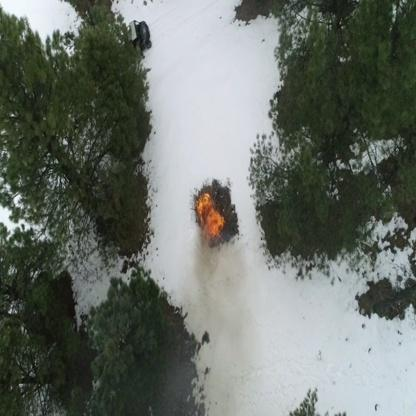Fire: (194, 191, 226, 245)
